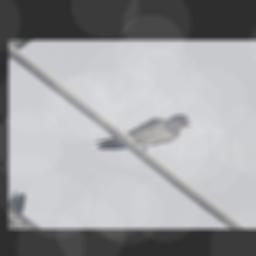Swallow: (91, 98, 198, 170)
